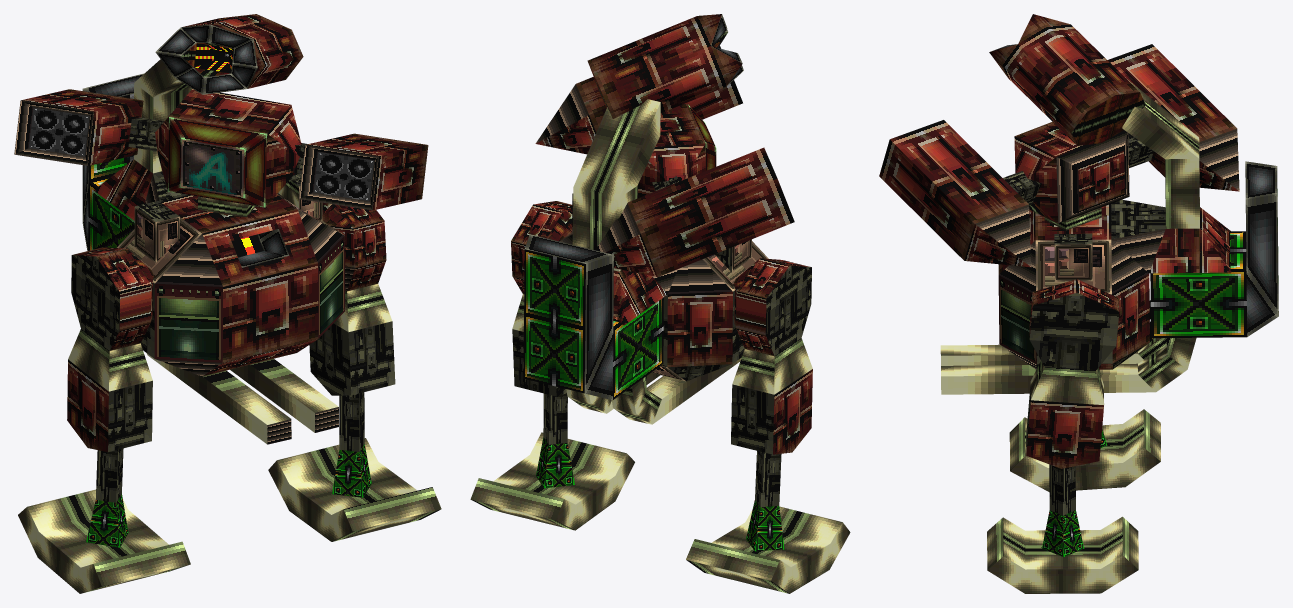
The model's file is Granga.dae.
The picture shows the model from 3 angles, left to right: view 1: azimuth 30°, elevation 25°; view 2: azimuth 150°, elevation 25°; view 3: azimuth 270°, elevation 25°; orthographic projection. The views are drawn at different scales.
Visible parts, largest first — view 1: hatch, yellow, yellowRF, yellowLF, green, hatchRL, machineRL, hatchT, machineLL, rustT, drill, hatchLA (+24 smaller); view 2: hatchRA, yellow, moleW, hatchH, yellowLF, yellowRF, hatch, hatchRL, machineRL, greyW, hatchT, hatchLA (+13 smaller); view 3: yellow, hatchLA, hatchH, yellowLF, hatch, moleW, hatchLL, yellowRF, machineLL, hatchRA, greyW, hatchT (+16 smaller).
Boxes of the visible parts, box(x1,y1,x2,y2) form: hatch: box(94, 159, 318, 376); yellow: box(134, 59, 338, 443); yellowRF: box(18, 489, 190, 593); yellowLF: box(268, 438, 441, 541); green: box(154, 236, 344, 362); hatchRL: box(67, 247, 153, 451); machineRL: box(71, 255, 152, 451); hatchT: box(155, 89, 301, 207); machineLL: box(309, 321, 395, 395); rustT: box(167, 117, 267, 207); drill: box(155, 210, 344, 444); hatchLA: box(305, 133, 428, 210); hatchRA: box(605, 147, 794, 276); yellow: box(566, 99, 741, 424); moleW: box(523, 249, 663, 399); hatchH: box(588, 14, 742, 118); yellowLF: box(470, 432, 634, 530); yellowRF: box(686, 506, 850, 593); hatch: box(613, 269, 732, 367); hatchRL: box(734, 258, 812, 454); machineRL: box(731, 265, 811, 454); greyW: box(525, 234, 613, 400); hatchT: box(638, 104, 705, 197); hatchLA: box(536, 46, 742, 154); yellow: box(940, 77, 1199, 394); hatchLA: box(879, 120, 1030, 267); hatchH: box(989, 14, 1139, 144); yellowLF: box(987, 516, 1138, 593); hatch: box(998, 204, 1231, 369); moleW: box(1150, 189, 1278, 338); hatchLL: box(1026, 279, 1119, 468); yellowRF: box(1009, 409, 1160, 492); machineLL: box(1026, 292, 1119, 452); hatchRA: box(1107, 44, 1238, 191); greyW: box(1245, 161, 1278, 336); hatchT: box(1014, 122, 1124, 222).
Size of the model in its own units: 582 by 889 by 653.
13 materials, 13 textured.
